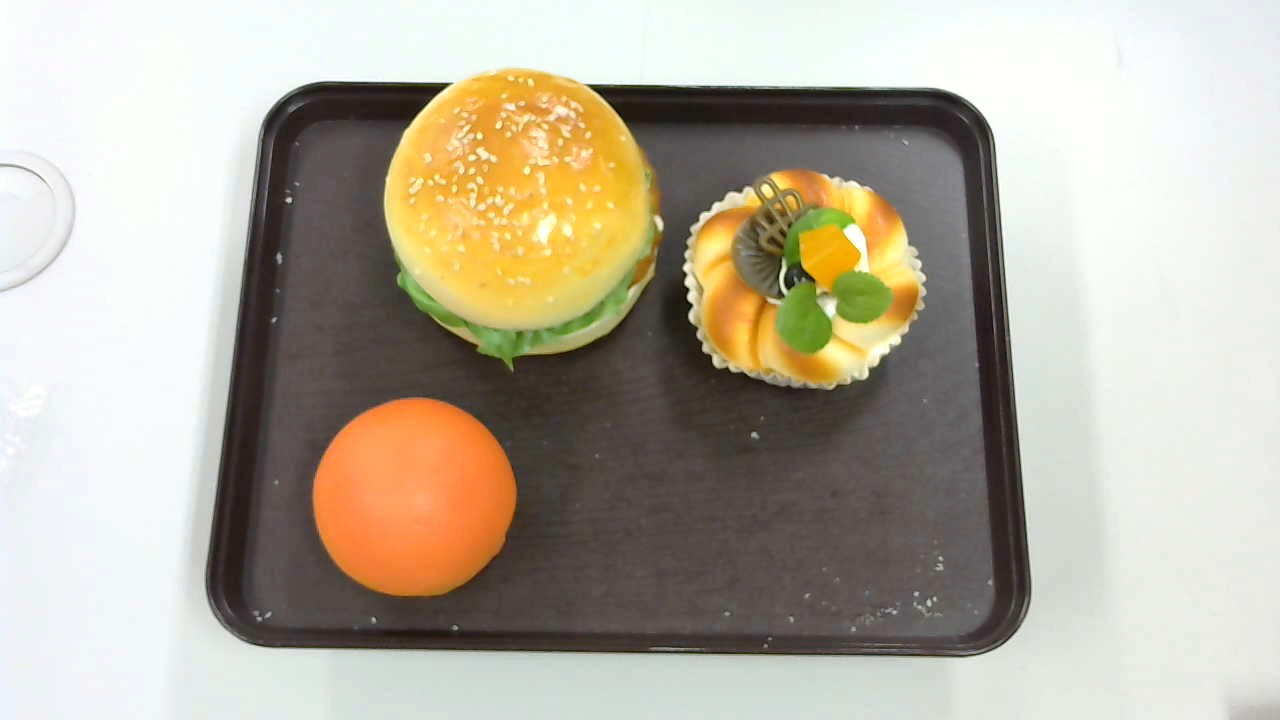bun: (312, 395, 517, 598)
fruit tart: (683, 167, 926, 389)
hamburger: (383, 67, 664, 374)
